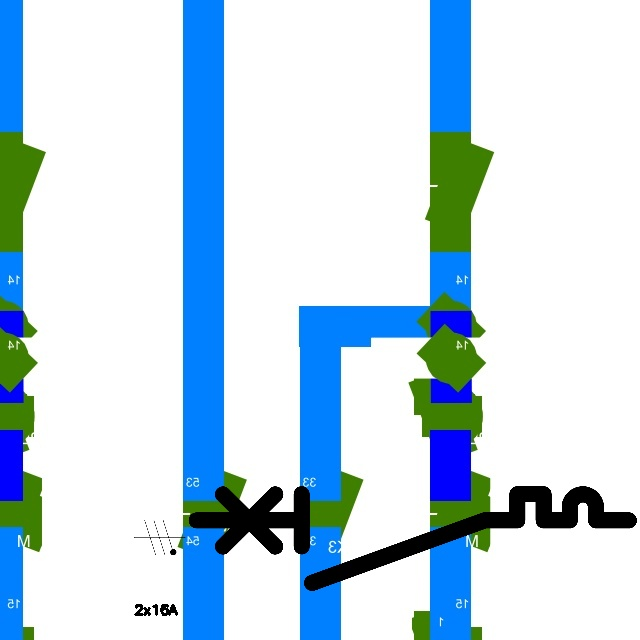interruptor_termomagnetico: (185, 483, 639, 594)
